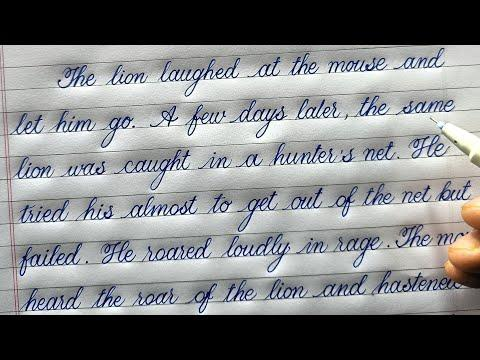text: (11, 133, 455, 193), (8, 92, 457, 151), (15, 178, 473, 235), (16, 222, 471, 279), (57, 44, 447, 98), (19, 268, 465, 314)
